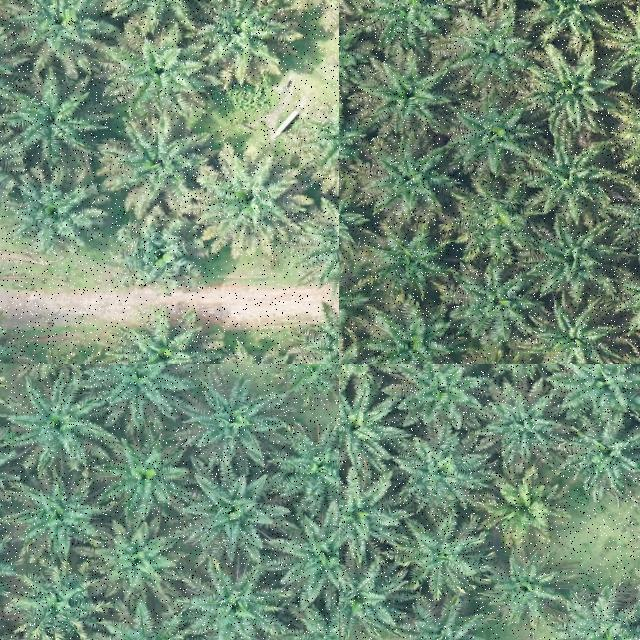Ganoderma: (502, 488, 548, 527)
